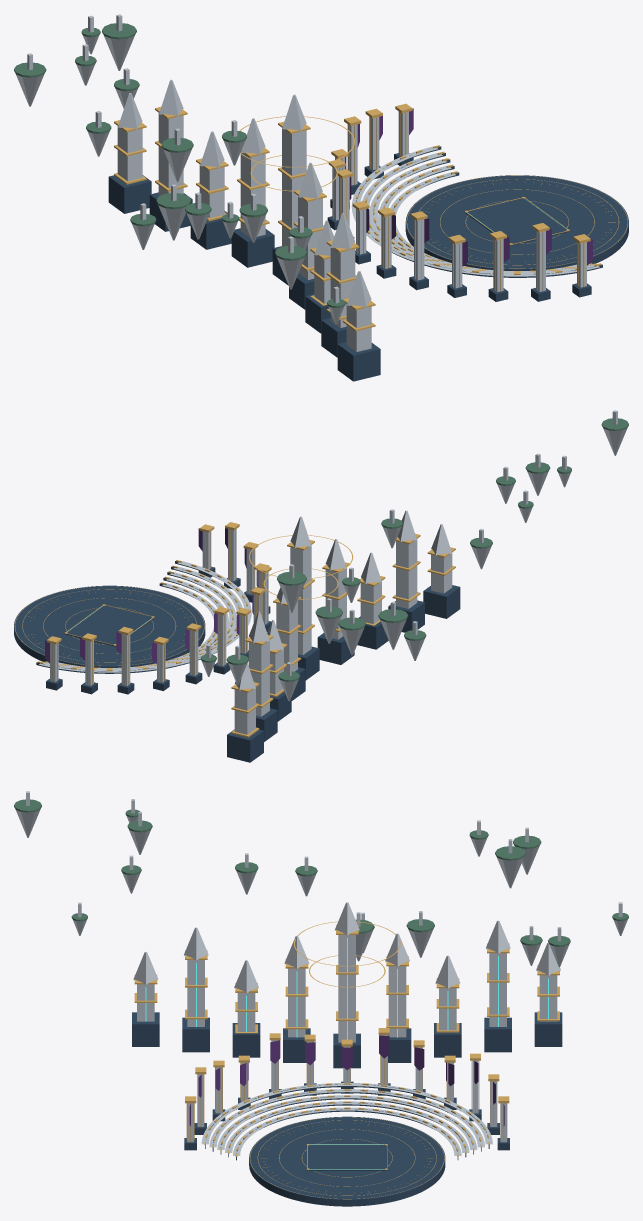
The model's file is celestial-arena.glb.
3 views of the same model, one above another, from view 1: azimuth 30°, elevation 25°; view 2: azimuth 150°, elevation 25°; view 3: azimuth 270°, elevation 25° (orthographic). The views are drawn at different scales.
Visible parts, largest first — view 1: Arena foundation, GateFace, Sky citadel tower.004, Terrace tread.004, Sky citadel base, Sky citadel tower.005, Sky citadel base.005, Sky citadel base.008, Sky citadel tower.001, Sky citadel tower.007, Sky citadel tower.008, Sky citadel tower.003 (+27 smaller); view 2: Arena foundation, GateFace, Sky citadel tower.004, Sky citadel tower.001, Sky citadel tower.007, Sky citadel tower.005, Terrace tread.004, Sky citadel base, Sky citadel base.008, Sky citadel tower.008, Sky citadel tower.003, Sky citadel base.003 (+10 smaller); view 3: Arena foundation, GateFace, Sky citadel tower.004, Terrace tread.004, Terrace tread.003, Sky citadel tower.005, Sky citadel tower.007, Terrace tread.002, Sky citadel tower.003, Terrace tread.001, Sky citadel tower.001, Terrace tread (+13 smaller).
Part boxes in pixels (left/top/right/bottom): Arena foundation: left=405, top=175, right=628, bottom=270; GateFace: left=468, top=198, right=566, bottom=243; Sky citadel tower.004: left=282, top=129, right=306, bottom=246; Terrace tread.004: left=351, top=146, right=599, bottom=276; Sky citadel base: left=337, top=342, right=380, bottom=381; Sky citadel tower.005: left=240, top=151, right=265, bottom=237; Sky citadel base.005: left=231, top=228, right=274, bottom=267; Sky citadel base.008: left=108, top=175, right=151, bottom=213; Sky citadel tower.001: left=330, top=246, right=355, bottom=327; Sky citadel tower.007: left=158, top=113, right=183, bottom=195; Sky citadel tower.008: left=117, top=126, right=142, bottom=181; Sky citadel tower.003: left=298, top=196, right=322, bottom=279; Arena foundation: left=14, top=585, right=205, bottom=667; GateFace: left=67, top=605, right=151, bottom=644; Sky citadel tower.004: left=290, top=545, right=311, bottom=654; Sky citadel tower.001: left=396, top=539, right=417, bottom=608; Sky citadel tower.007: left=248, top=640, right=269, bottom=716; Sky citadel tower.005: left=276, top=601, right=297, bottom=671; Terrace tread.004: left=39, top=561, right=251, bottom=672; Sky citadel base: left=423, top=585, right=460, bottom=618; Sky citadel base.008: left=227, top=729, right=263, bottom=762; Sky citadel tower.008: left=234, top=687, right=255, bottom=734; Sky citadel tower.003: left=325, top=568, right=346, bottom=639; Sky citadel base.003: left=317, top=633, right=354, bottom=664; Arena foundation: left=249, top=1116, right=445, bottom=1206; GateFace: left=308, top=1145, right=386, bottom=1169; Sky citadel tower.004: left=338, top=935, right=355, bottom=1042; Terrace tread.004: left=201, top=1083, right=492, bottom=1144; Terrace tread.003: left=209, top=1089, right=484, bottom=1147; Sky citadel tower.005: left=388, top=966, right=406, bottom=1037; Sky citadel tower.007: left=489, top=953, right=506, bottom=1026; Terrace tread.002: left=217, top=1095, right=477, bottom=1149; Sky citadel tower.003: left=288, top=968, right=305, bottom=1037; Terrace tread.001: left=225, top=1101, right=469, bottom=1152; Sky citadel tower.001: left=187, top=960, right=204, bottom=1026; Terrace tread: left=233, top=1107, right=461, bottom=1155.
Bounding box in the file's own units: 209 × 86.74 × 244.
